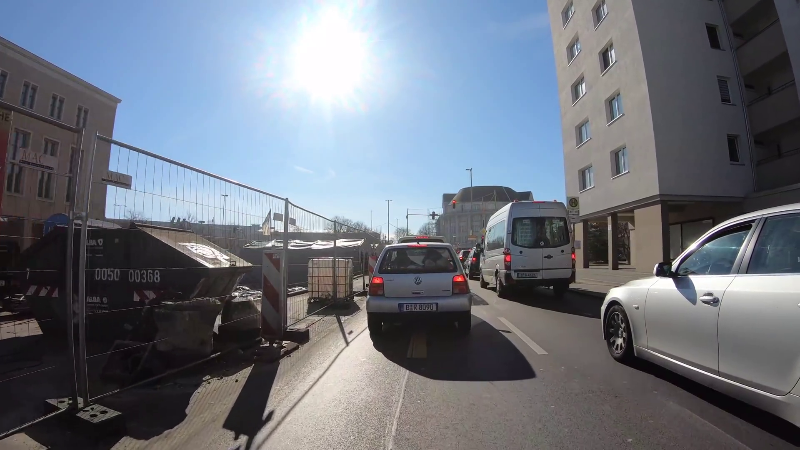Plate: (397, 301, 440, 311), (515, 270, 538, 278)
